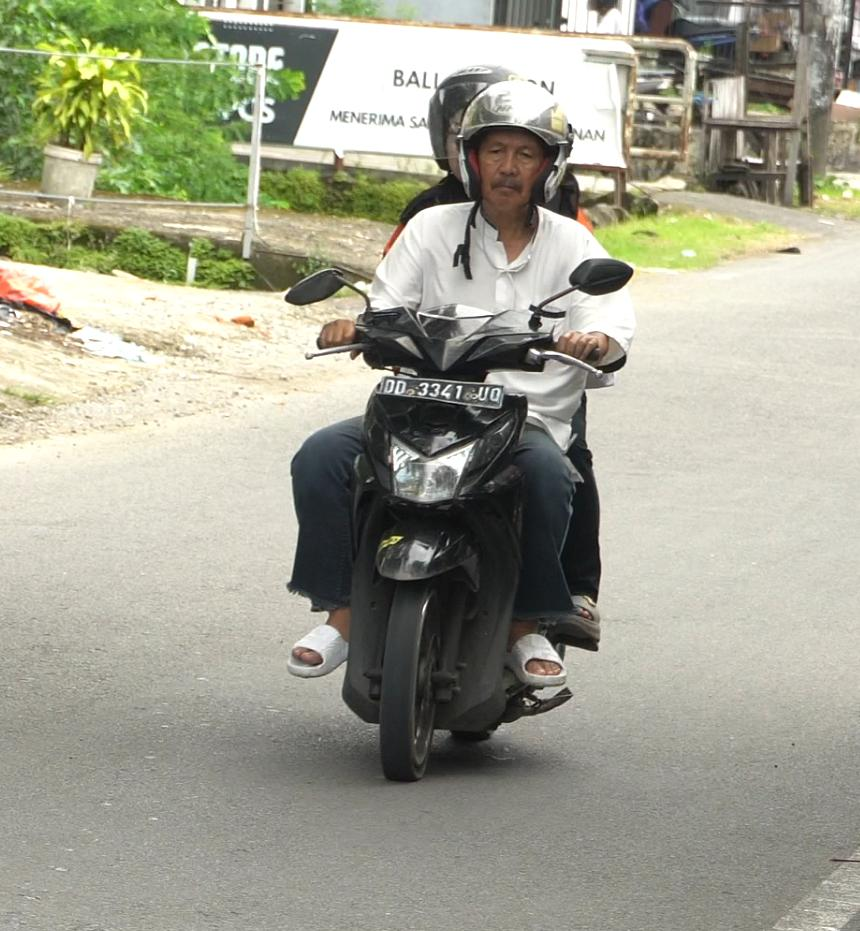number-plate: (368, 376, 511, 413)
